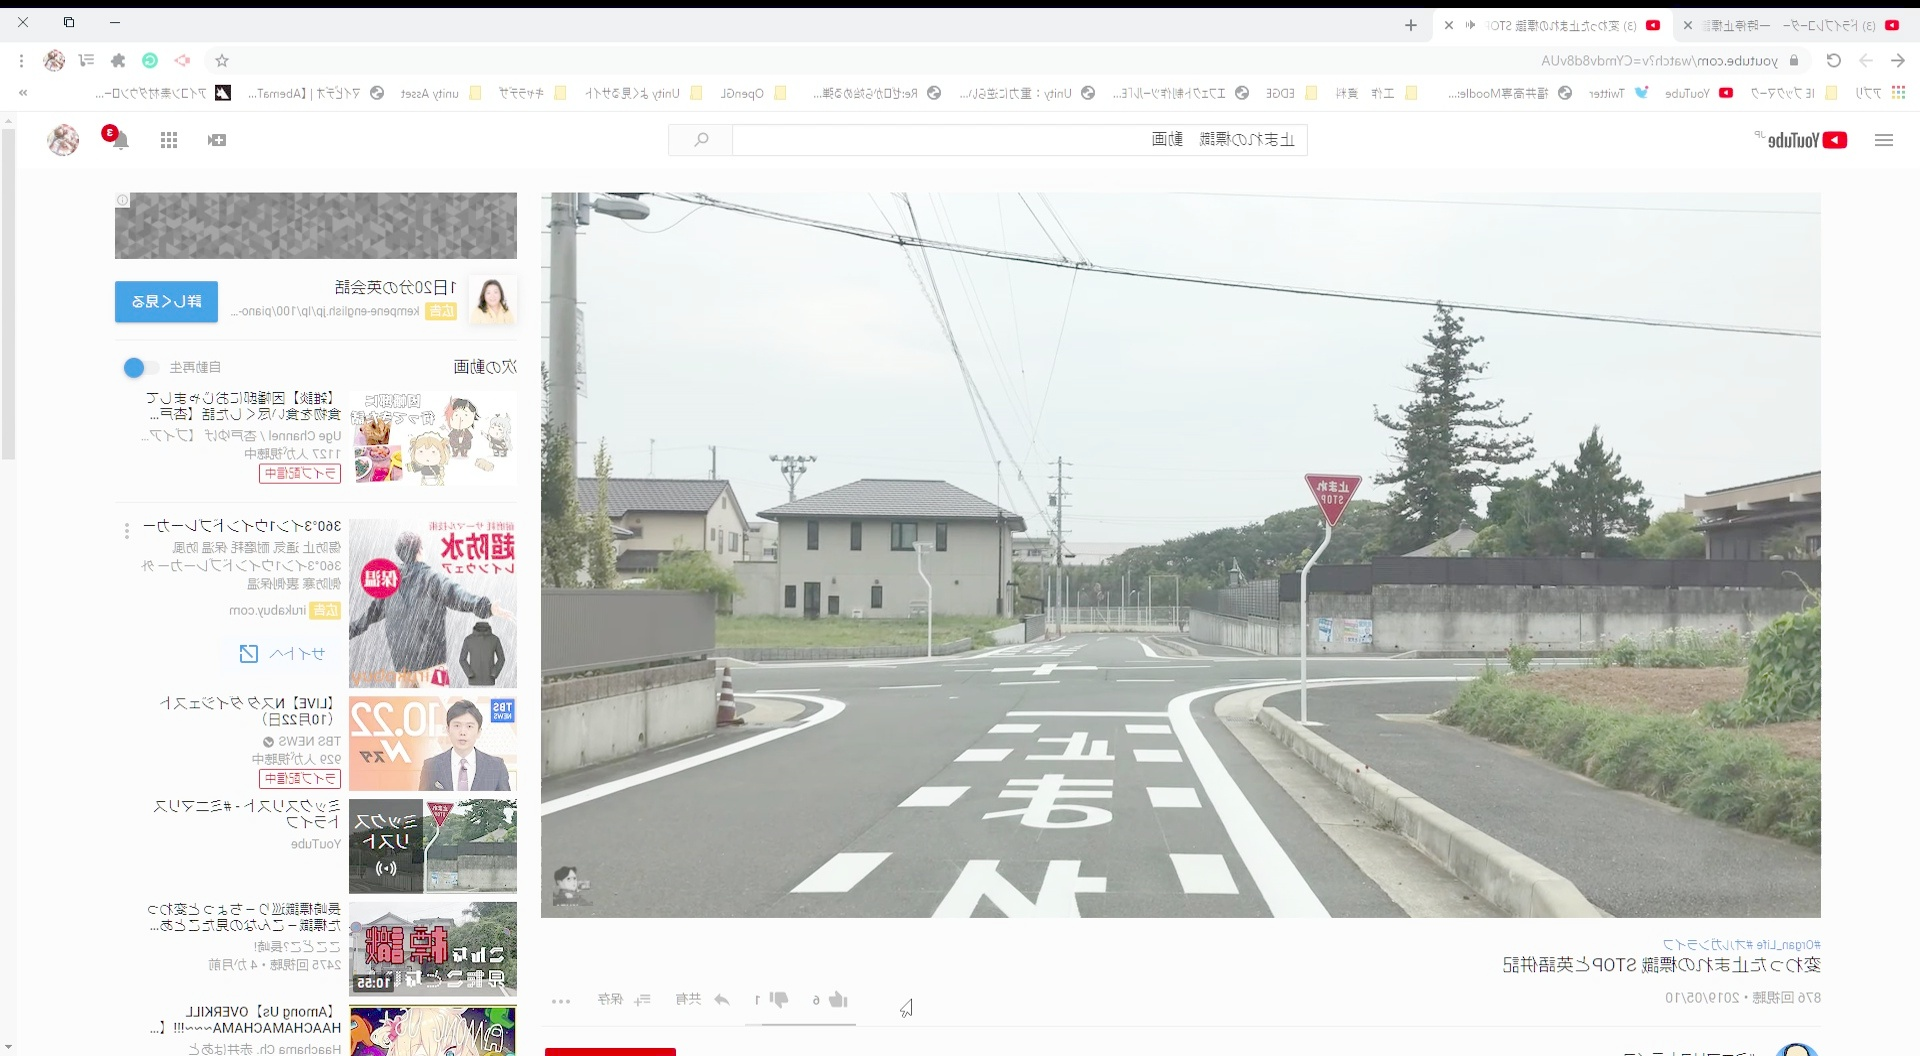Regulatory_sign_triangle: (1292, 462, 1362, 535)
